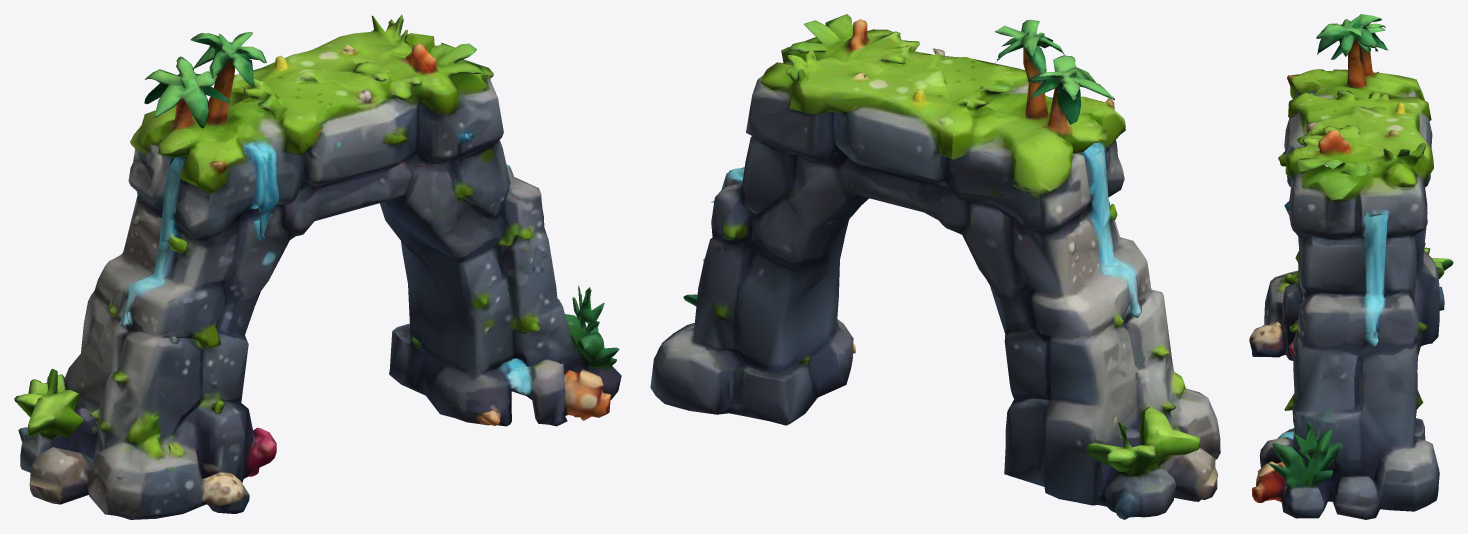
Rendered from seaarch.glb.
3 views of the same model, side by side, from view 1: azimuth 30°, elevation 25°; view 2: azimuth 150°, elevation 25°; view 3: azimuth 270°, elevation 25° (orthographic). The views are drawn at different scales.
Parts seen in each view (by area): view 1: tripo_node_f9c848b6; view 2: tripo_node_f9c848b6; view 3: tripo_node_f9c848b6.
Part boxes in pixels (x1,y1,x2,y2): tripo_node_f9c848b6: (14,14,621,519); tripo_node_f9c848b6: (650,14,1220,519); tripo_node_f9c848b6: (1249,14,1453,519).
Size of the model in its own units: 99.38 by 72.94 by 37.71.
1 material, 1 textured.
